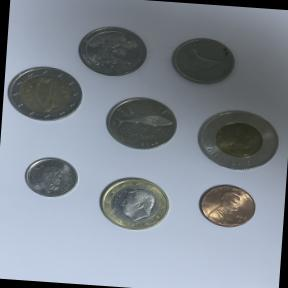coin: (188, 98, 288, 180), (89, 169, 178, 237), (98, 90, 183, 159), (4, 61, 86, 126), (74, 22, 154, 82), (190, 178, 262, 235), (19, 150, 84, 203)
